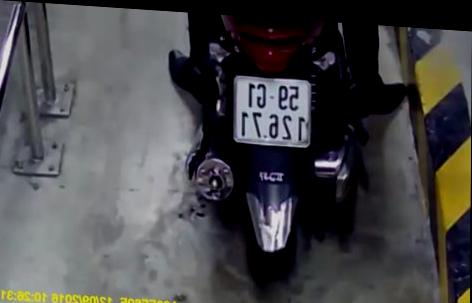License_Plate: (225, 68, 318, 152)
